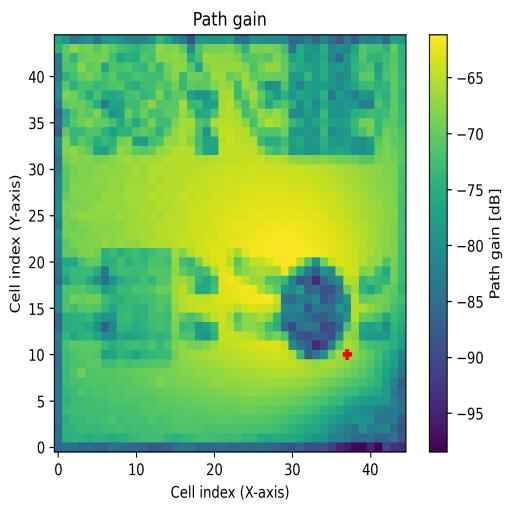Concrete: (289, 42, 375, 155)
Glass: (78, 45, 172, 156)
Metal: (274, 256, 352, 360)
Wood: (102, 248, 171, 359)
